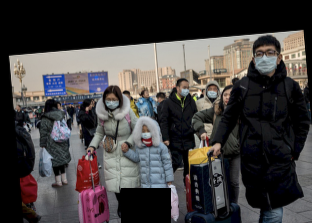with_mask: (253, 47, 277, 74), (103, 95, 119, 108), (204, 85, 217, 98), (177, 83, 189, 96), (138, 127, 151, 138)
without_mask: (220, 91, 231, 104), (87, 101, 93, 109), (143, 90, 149, 96)
